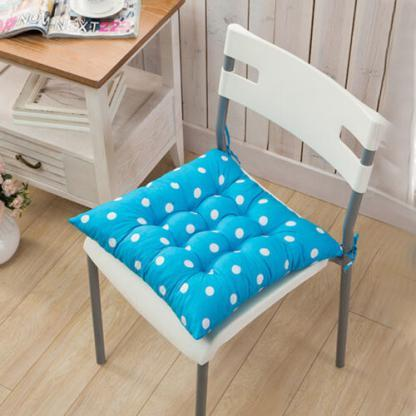chair: (75, 22, 388, 416)
table: (0, 2, 189, 216)
